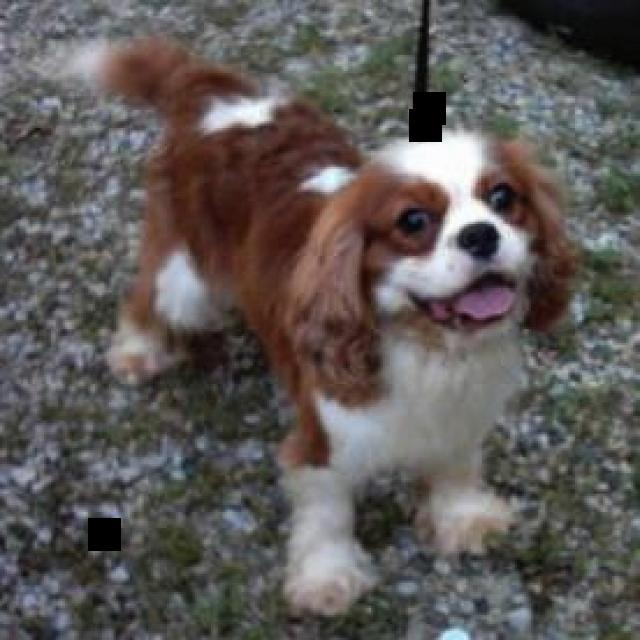adult_dog: (81, 24, 579, 618)
